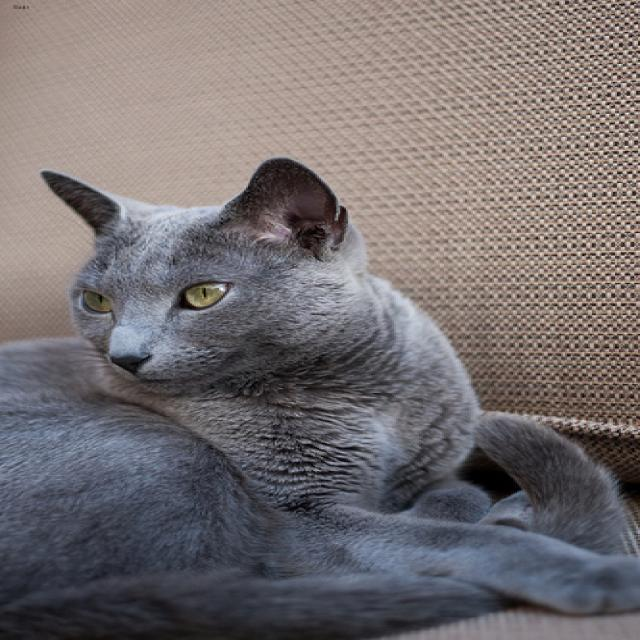Russian_Blue: (25, 151, 379, 404)
